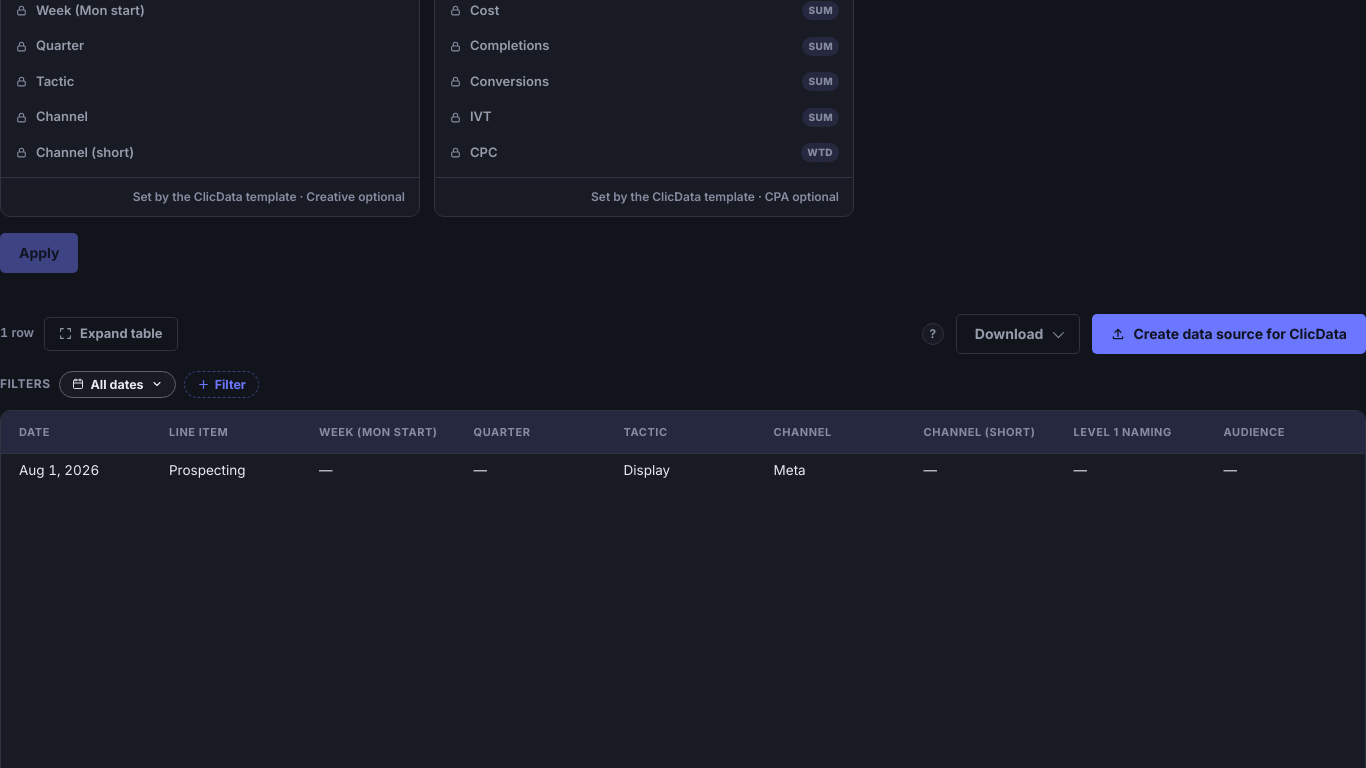
it: DashboardsTab › should offer every filterable dataset column in the field picker, not only the displayed ones
(page scrolled)
Expected: the text "Prospecting" is shown, top-left (151, 454), bottom-right (301, 487)
Click the button "Filter".
click(221, 384)  # box top-left (184, 371), bottom-right (259, 398)
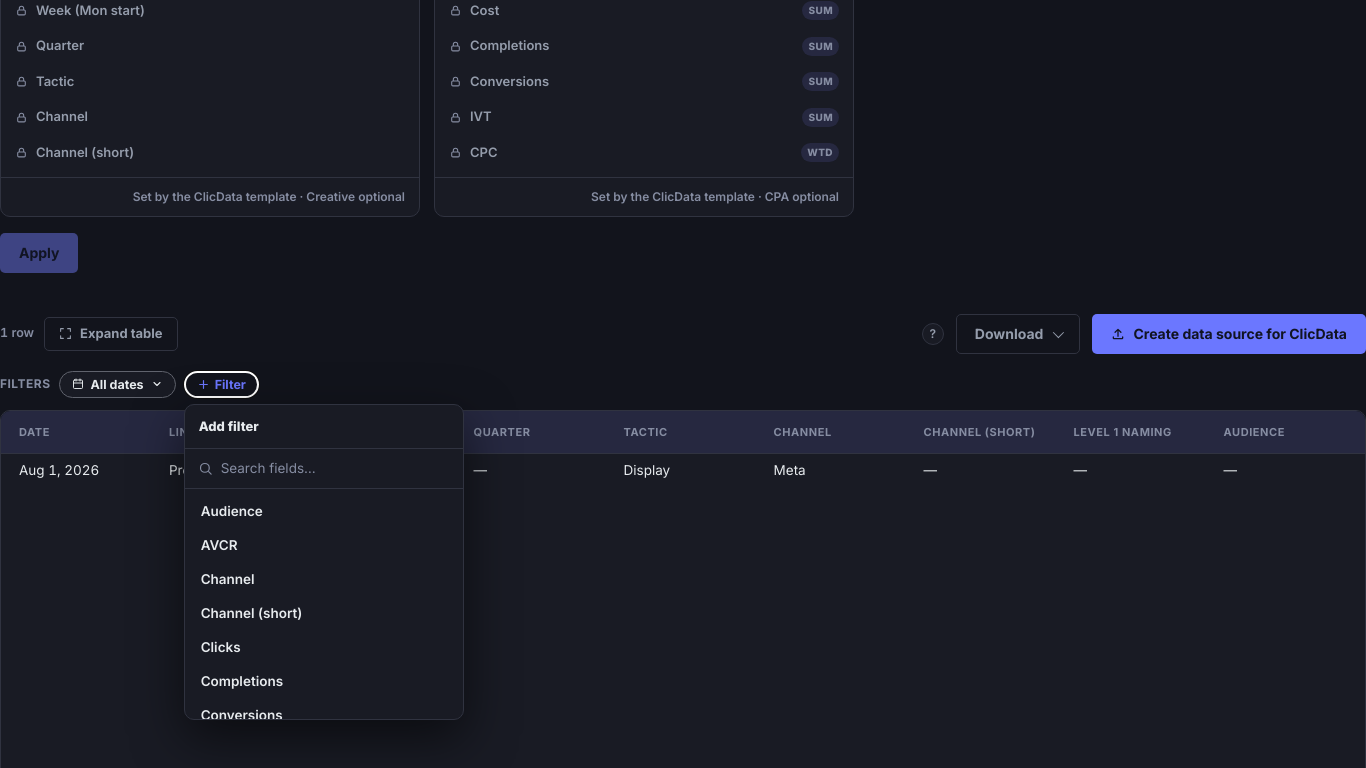
Result: the text "Channel" below "Add filter" is shown at top-left (201, 570), bottom-right (255, 586)
